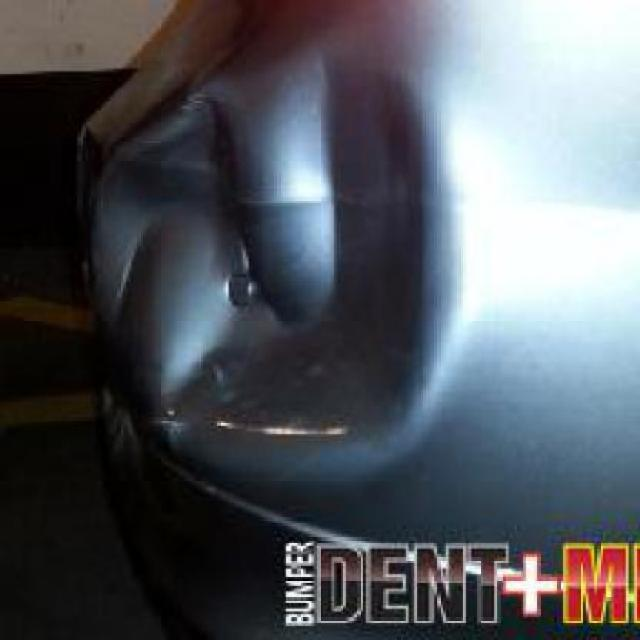dent-or-scratch: (117, 52, 490, 460)
